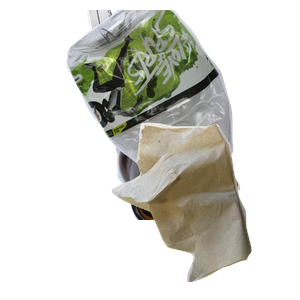glass: (115, 120, 300, 300)
paper: (85, 10, 224, 190)
plastic: (64, 10, 300, 190)
trash: (109, 120, 300, 300)
